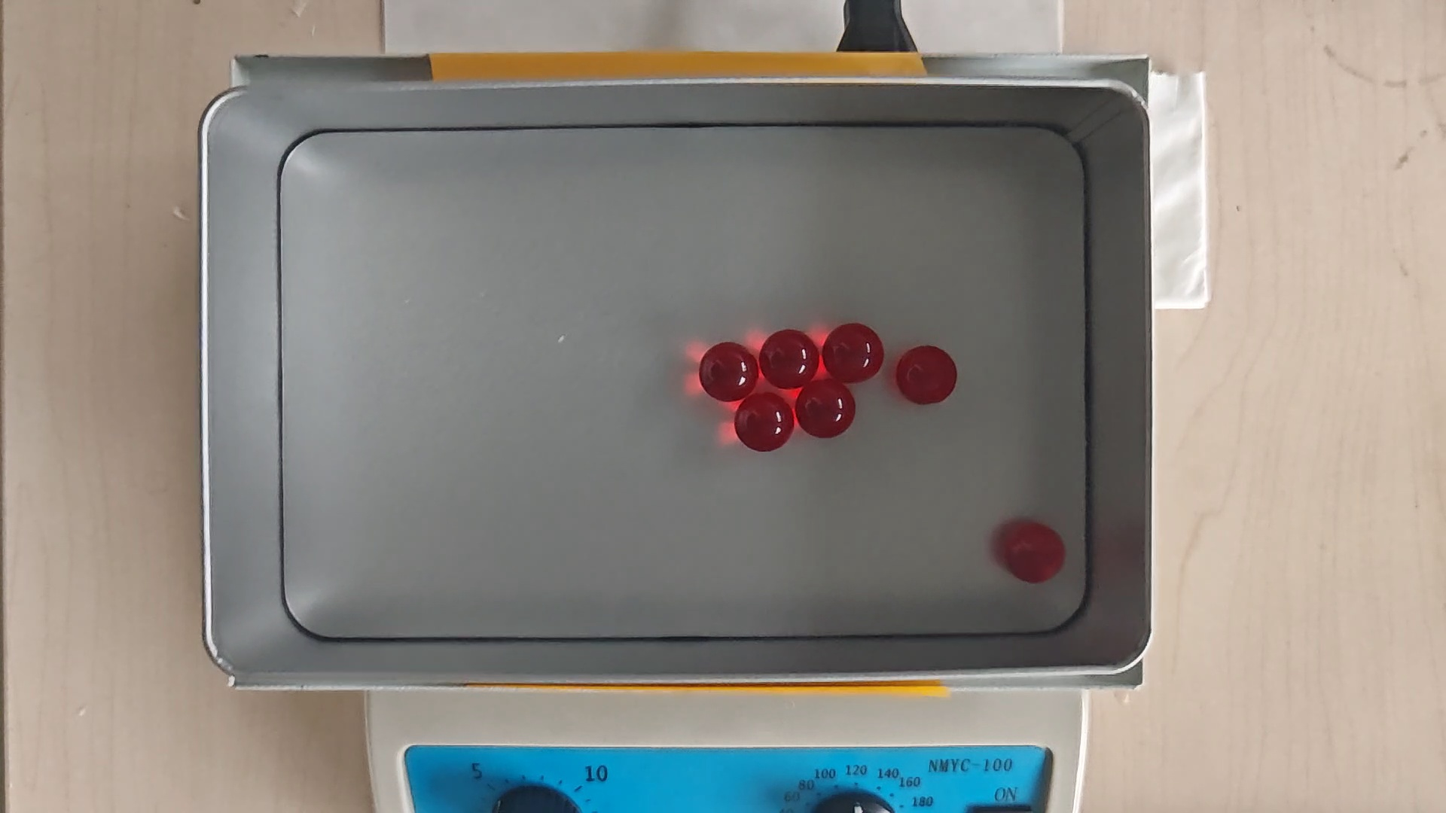ball: (1003, 522, 1063, 582), (700, 340, 757, 403), (760, 330, 819, 390), (798, 380, 857, 440), (895, 346, 955, 404), (736, 394, 794, 453), (825, 324, 883, 382)
container: (274, 125, 1086, 639)
